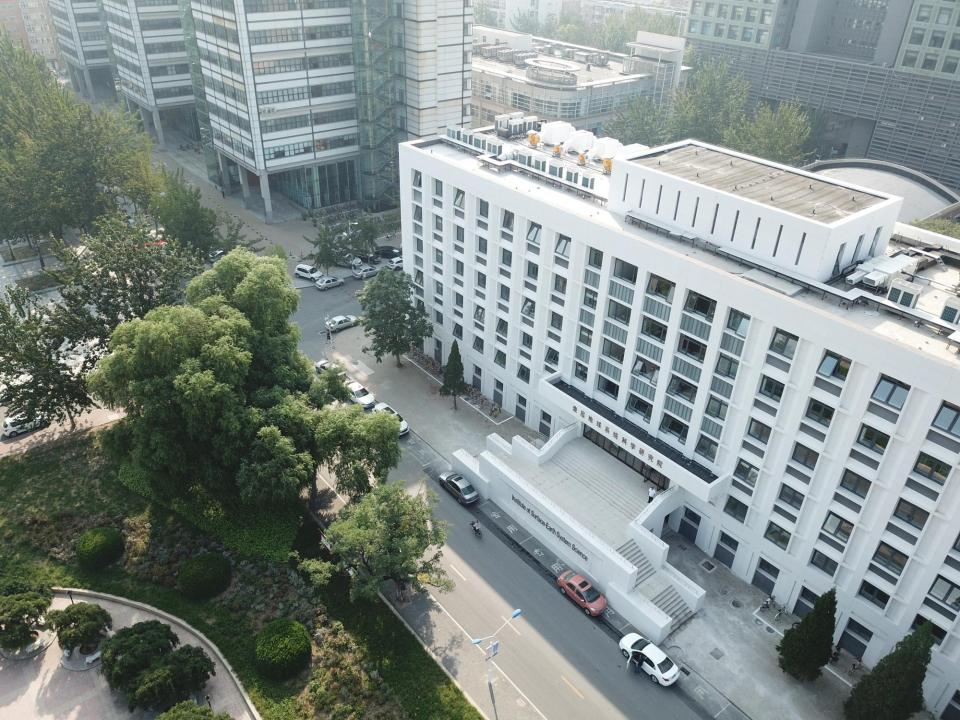car: (618, 632, 680, 686), (556, 570, 607, 616), (438, 470, 480, 504), (1, 410, 50, 438), (371, 402, 409, 437), (340, 379, 375, 409), (314, 360, 346, 383), (324, 314, 358, 332), (293, 263, 324, 282), (330, 251, 362, 269), (208, 247, 241, 262), (315, 275, 345, 291), (386, 255, 413, 271), (353, 249, 381, 264), (352, 265, 380, 280), (375, 244, 402, 259), (124, 218, 144, 235)
